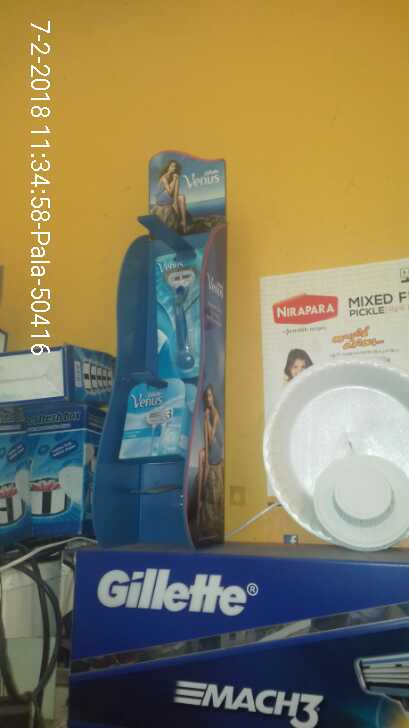venus: (113, 380, 187, 477), (150, 254, 205, 372)
